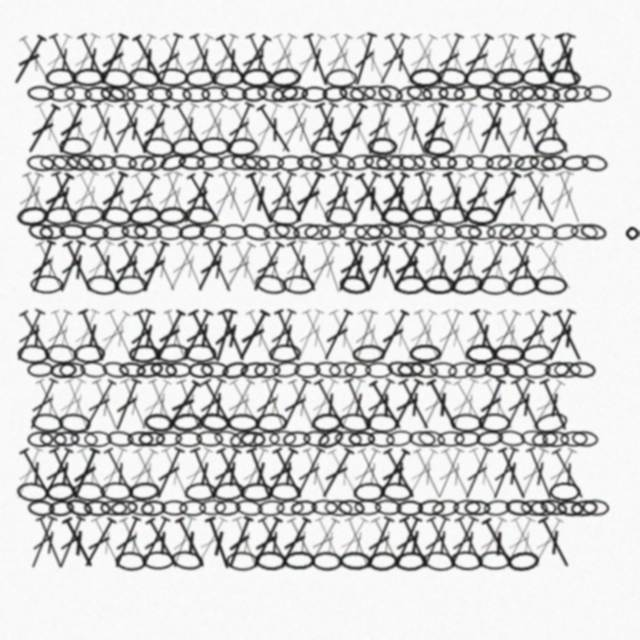chain: (533, 410, 569, 436), (127, 65, 162, 90), (253, 272, 288, 297), (506, 273, 540, 297), (71, 204, 106, 227), (268, 66, 302, 89), (436, 66, 470, 89), (450, 273, 484, 296), (170, 549, 204, 572), (315, 426, 346, 451), (85, 274, 120, 296), (198, 411, 231, 434), (100, 205, 134, 227), (324, 205, 358, 227), (44, 343, 78, 365), (520, 343, 554, 365), (30, 412, 64, 434), (338, 412, 372, 434), (422, 550, 456, 572), (506, 550, 540, 572), (100, 67, 133, 89), (184, 67, 217, 89), (142, 136, 175, 158), (170, 136, 203, 158), (16, 205, 49, 227), (338, 274, 371, 296), (58, 412, 91, 434), (16, 481, 49, 503), (380, 481, 413, 503), (139, 151, 169, 175), (534, 136, 568, 157), (156, 343, 190, 364), (268, 343, 302, 364), (72, 481, 106, 502), (212, 481, 246, 502), (143, 412, 175, 434), (464, 67, 497, 88), (492, 67, 525, 88), (128, 205, 161, 226), (184, 205, 217, 226), (394, 274, 427, 295), (128, 481, 161, 502), (254, 550, 287, 571), (450, 550, 483, 571), (158, 151, 188, 174), (272, 220, 302, 243), (64, 496, 94, 519), (171, 412, 203, 433), (311, 412, 343, 433), (45, 481, 77, 502), (376, 82, 405, 105), (212, 68, 245, 88), (548, 68, 581, 88), (337, 83, 367, 105), (394, 83, 424, 105), (226, 137, 259, 157), (44, 206, 77, 226), (436, 206, 469, 226), (241, 221, 271, 243), (114, 275, 147, 295), (282, 275, 315, 295), (478, 275, 511, 295), (534, 275, 567, 295), (128, 344, 161, 364), (352, 344, 385, 364), (220, 359, 250, 381), (226, 413, 259, 433), (366, 413, 399, 433), (450, 413, 483, 433), (213, 428, 243, 450), (228, 428, 258, 450), (184, 482, 217, 502), (240, 482, 273, 502), (226, 551, 259, 571), (394, 551, 427, 571), (325, 68, 357, 88), (269, 206, 301, 226), (17, 344, 49, 364), (493, 344, 525, 364), (269, 482, 301, 502), (353, 482, 385, 502), (115, 551, 147, 571), (311, 551, 343, 571), (339, 551, 371, 571), (367, 551, 399, 571), (501, 359, 530, 381), (76, 152, 106, 173), (409, 359, 439, 380), (72, 68, 105, 87), (156, 68, 189, 87), (198, 137, 231, 156), (30, 275, 63, 294), (184, 344, 217, 363), (478, 413, 511, 432), (100, 482, 133, 501), (142, 551, 175, 570), (478, 551, 511, 570), (157, 206, 188, 226), (381, 206, 412, 226), (256, 83, 285, 104), (270, 83, 299, 104), (405, 83, 434, 104), (474, 83, 503, 104), (532, 83, 561, 104), (230, 152, 259, 173), (328, 152, 357, 173), (346, 152, 375, 173), (412, 152, 441, 173), (379, 221, 408, 242), (498, 221, 527, 242), (386, 359, 415, 380), (539, 497, 568, 518), (45, 68, 77, 87), (241, 68, 273, 87), (409, 68, 441, 87), (521, 68, 553, 87), (59, 137, 91, 156), (311, 137, 343, 156), (409, 206, 441, 225), (465, 206, 497, 225), (423, 275, 455, 294), (73, 344, 105, 363), (409, 344, 441, 363), (465, 344, 497, 363), (255, 413, 287, 432), (549, 482, 581, 501), (283, 551, 315, 570), (529, 222, 559, 242), (447, 360, 477, 380), (234, 498, 264, 518), (367, 137, 398, 156), (423, 137, 454, 156), (65, 152, 93, 173), (27, 221, 55, 242), (108, 84, 137, 104), (164, 84, 193, 104), (51, 153, 80, 173), (242, 153, 271, 173), (528, 153, 557, 173), (580, 153, 609, 173), (397, 222, 426, 242), (551, 222, 580, 242), (579, 222, 608, 242), (101, 360, 130, 380), (135, 360, 164, 380), (239, 360, 268, 380), (464, 360, 493, 380), (417, 429, 446, 449), (431, 498, 460, 518), (99, 84, 127, 104), (513, 153, 541, 173), (363, 84, 392, 103), (508, 84, 537, 103), (563, 84, 592, 103), (362, 153, 391, 172), (388, 153, 417, 172), (133, 222, 162, 241), (177, 222, 206, 241), (292, 222, 321, 241), (79, 360, 108, 379), (149, 360, 178, 379), (272, 360, 301, 379), (385, 429, 414, 448), (475, 429, 504, 448), (497, 429, 526, 448), (126, 498, 155, 517), (504, 498, 533, 517), (220, 84, 248, 103), (453, 84, 481, 103), (110, 153, 138, 172), (485, 153, 513, 172), (497, 153, 525, 172), (263, 222, 291, 241), (486, 222, 514, 241), (314, 360, 342, 379), (568, 360, 596, 379), (520, 429, 548, 448), (337, 498, 365, 517), (26, 154, 55, 172), (310, 154, 339, 172), (429, 361, 458, 379), (282, 430, 311, 448), (324, 499, 353, 517), (544, 360, 571, 379), (64, 85, 92, 103), (552, 85, 580, 103), (561, 154, 589, 172), (81, 223, 109, 241), (102, 223, 130, 241), (319, 223, 347, 241), (434, 223, 462, 241), (454, 223, 482, 241), (570, 223, 598, 241), (49, 361, 77, 379), (118, 361, 146, 379), (523, 361, 551, 379), (39, 430, 67, 448), (70, 430, 98, 448), (106, 430, 134, 448), (155, 430, 183, 448), (252, 430, 280, 448), (334, 430, 362, 448), (367, 430, 395, 448), (408, 430, 436, 448), (531, 430, 559, 448), (571, 430, 599, 448), (27, 499, 55, 517), (83, 499, 111, 517), (110, 499, 138, 517), (257, 499, 285, 517), (290, 499, 318, 517), (483, 499, 511, 517), (520, 499, 548, 517), (556, 499, 584, 517), (570, 499, 598, 517), (200, 361, 229, 378), (296, 154, 323, 172), (540, 154, 567, 172), (48, 499, 75, 517), (140, 499, 167, 517), (349, 85, 377, 102), (519, 85, 547, 102), (40, 154, 68, 171), (196, 154, 224, 171), (218, 154, 246, 171), (376, 154, 404, 171), (466, 154, 494, 171), (276, 499, 304, 516), (374, 499, 402, 516), (417, 499, 445, 516), (453, 499, 481, 516), (27, 85, 54, 102), (48, 85, 75, 102), (241, 85, 268, 102), (281, 85, 308, 102), (422, 85, 449, 102), (438, 85, 465, 102), (584, 85, 611, 102), (90, 154, 117, 171), (178, 154, 205, 171), (399, 154, 426, 171), (430, 154, 457, 171), (447, 154, 474, 171), (59, 223, 86, 240), (121, 223, 148, 240), (366, 223, 393, 240), (418, 223, 445, 240), (27, 361, 54, 378), (329, 361, 356, 378), (397, 361, 424, 378), (196, 430, 223, 447), (269, 430, 296, 447), (303, 430, 330, 447), (454, 430, 481, 447), (199, 499, 226, 516), (214, 499, 241, 516), (311, 499, 338, 516), (354, 499, 381, 516), (582, 499, 609, 516), (126, 86, 154, 102), (182, 86, 210, 102), (128, 155, 156, 171), (220, 224, 248, 240), (339, 224, 367, 240), (354, 224, 382, 240), (468, 224, 496, 240), (365, 362, 393, 378), (84, 431, 112, 447), (437, 431, 465, 447), (560, 431, 588, 447), (322, 85, 348, 102), (84, 86, 111, 102), (201, 86, 228, 102), (301, 86, 328, 102), (493, 86, 520, 102), (257, 155, 284, 171), (277, 155, 304, 171), (39, 224, 66, 240), (156, 224, 183, 240), (199, 224, 226, 240), (304, 224, 331, 240), (512, 224, 539, 240), (59, 362, 86, 378), (165, 362, 192, 378), (254, 362, 281, 378), (294, 362, 321, 378), (344, 362, 371, 378), (554, 362, 581, 378), (27, 431, 54, 447), (53, 431, 80, 447), (127, 431, 154, 447), (138, 431, 165, 447), (175, 431, 202, 447), (348, 431, 375, 447), (542, 431, 569, 447), (100, 500, 127, 516), (161, 500, 188, 516), (179, 500, 206, 516), (396, 500, 423, 516), (464, 500, 491, 516), (530, 500, 557, 516), (147, 86, 173, 102), (188, 362, 214, 378), (484, 362, 510, 378), (240, 431, 266, 447)
double: (160, 377, 205, 433), (15, 307, 59, 364), (329, 514, 373, 571), (532, 239, 577, 294), (231, 32, 275, 88), (253, 101, 297, 157), (119, 170, 163, 226), (91, 308, 135, 364), (525, 377, 569, 433), (175, 31, 218, 88), (455, 31, 498, 88), (169, 100, 212, 157), (225, 100, 268, 157), (533, 100, 576, 157), (127, 169, 170, 226), (197, 376, 240, 433), (225, 376, 268, 433), (15, 445, 58, 502), (315, 445, 358, 502), (379, 445, 422, 502), (189, 514, 232, 571), (301, 514, 344, 571), (7, 32, 50, 88), (15, 32, 58, 88), (21, 101, 64, 157), (35, 170, 78, 226), (183, 170, 226, 226), (365, 377, 408, 433), (449, 377, 492, 433), (288, 31, 330, 88), (512, 31, 554, 88), (330, 100, 372, 157), (86, 238, 128, 295), (302, 238, 344, 295), (386, 238, 428, 295), (232, 307, 274, 364), (310, 376, 352, 433), (394, 376, 436, 433), (422, 376, 464, 433), (478, 376, 520, 433), (260, 445, 302, 502), (58, 514, 100, 571), (254, 514, 296, 571), (282, 514, 324, 571), (366, 514, 408, 571), (534, 514, 576, 571), (128, 32, 170, 88), (156, 32, 198, 88), (212, 32, 254, 88), (142, 101, 184, 157), (352, 170, 394, 226), (428, 170, 470, 226), (218, 239, 260, 295), (246, 239, 288, 295), (394, 239, 436, 295), (512, 308, 554, 364), (78, 377, 120, 433), (120, 446, 162, 502), (324, 446, 366, 502), (372, 446, 414, 502), (400, 446, 442, 502), (548, 446, 590, 502), (78, 515, 120, 571), (142, 515, 184, 571), (478, 515, 520, 571), (30, 100, 71, 157), (106, 100, 147, 157), (190, 100, 231, 157), (274, 100, 315, 157), (478, 100, 519, 157), (72, 169, 113, 226), (268, 169, 309, 226), (288, 169, 329, 226), (296, 169, 337, 226), (344, 169, 385, 226), (464, 169, 505, 226), (512, 169, 553, 226), (520, 169, 561, 226), (106, 238, 147, 295), (114, 238, 155, 295), (506, 238, 547, 295), (176, 307, 217, 364), (184, 307, 225, 364), (400, 307, 441, 364), (302, 376, 343, 433), (358, 376, 399, 433), (386, 376, 427, 433), (498, 376, 539, 433), (100, 445, 141, 502), (176, 445, 217, 502), (204, 445, 245, 502), (212, 445, 253, 502), (268, 445, 309, 502), (540, 445, 581, 502), (246, 514, 287, 571), (274, 514, 315, 571), (470, 514, 511, 571), (498, 514, 539, 571), (400, 32, 441, 88), (134, 377, 175, 433), (526, 515, 567, 571), (73, 31, 113, 88), (121, 31, 161, 88), (261, 31, 301, 88), (317, 31, 357, 88), (353, 31, 393, 88), (373, 31, 413, 88), (381, 31, 421, 88), (409, 31, 449, 88), (521, 31, 561, 88), (59, 100, 99, 157), (163, 100, 203, 157), (339, 100, 379, 157), (423, 100, 463, 157), (499, 100, 539, 157), (527, 100, 567, 157), (101, 169, 141, 226), (177, 169, 217, 226), (373, 169, 413, 226), (381, 169, 421, 226), (457, 169, 497, 226), (485, 169, 525, 226), (59, 238, 99, 295), (191, 238, 231, 295), (283, 238, 323, 295), (331, 238, 371, 295), (471, 238, 511, 295), (527, 238, 567, 295), (9, 307, 49, 364), (101, 307, 141, 364), (149, 307, 189, 364), (241, 307, 281, 364), (317, 307, 357, 364), (325, 307, 365, 364), (373, 307, 413, 364), (381, 307, 421, 364), (485, 307, 525, 364), (31, 376, 71, 433), (219, 376, 259, 433), (275, 376, 315, 433), (415, 376, 455, 433), (507, 376, 547, 433), (37, 445, 77, 502), (45, 445, 85, 502), (73, 445, 113, 502), (129, 445, 169, 502), (289, 445, 329, 502), (437, 445, 477, 502), (513, 445, 553, 502), (87, 514, 127, 571), (171, 514, 211, 571), (395, 514, 435, 571), (423, 514, 463, 571), (507, 514, 547, 571), (185, 31, 224, 89), (311, 100, 350, 158), (451, 100, 490, 158), (135, 238, 174, 296), (129, 307, 168, 365), (535, 376, 574, 434), (359, 514, 398, 572), (37, 31, 76, 88), (45, 31, 84, 88), (65, 31, 104, 88), (269, 31, 308, 88), (437, 31, 476, 88), (87, 100, 126, 157), (135, 100, 174, 157), (303, 100, 342, 157), (31, 238, 70, 295), (79, 238, 118, 295), (143, 238, 182, 295), (163, 238, 202, 295), (199, 238, 238, 295), (227, 238, 266, 295), (367, 238, 406, 295), (423, 238, 462, 295), (437, 307, 476, 364), (457, 307, 496, 364), (493, 307, 532, 364), (521, 307, 560, 364), (549, 307, 588, 364), (23, 376, 62, 433), (51, 376, 90, 433), (149, 445, 188, 502), (157, 445, 196, 502), (345, 445, 384, 502), (353, 445, 392, 502), (409, 445, 448, 502), (465, 445, 504, 502), (115, 514, 154, 571), (135, 514, 174, 571), (311, 514, 350, 571), (387, 514, 426, 571), (443, 514, 482, 571), (451, 514, 490, 571), (430, 31, 468, 89), (466, 31, 504, 89), (80, 100, 118, 158), (248, 100, 286, 158), (284, 100, 322, 158), (508, 100, 546, 158), (10, 169, 48, 227), (242, 169, 280, 227), (318, 169, 356, 227), (500, 238, 538, 296), (66, 445, 104, 503), (94, 31, 132, 88), (242, 31, 280, 88), (326, 31, 364, 88), (52, 100, 90, 157), (116, 100, 154, 157), (200, 100, 238, 157), (220, 100, 258, 157), (18, 169, 56, 226), (94, 169, 132, 226), (206, 169, 244, 226), (214, 169, 252, 226), (262, 169, 300, 226), (326, 169, 364, 226), (494, 169, 532, 226), (172, 238, 210, 295), (360, 238, 398, 295), (38, 307, 76, 364), (66, 307, 104, 364), (262, 307, 300, 364), (290, 307, 328, 364), (298, 307, 336, 364), (354, 307, 392, 364), (466, 307, 504, 364), (542, 307, 580, 364), (192, 376, 230, 433), (248, 376, 286, 433), (284, 376, 322, 433), (444, 376, 482, 433), (234, 445, 272, 502), (430, 445, 468, 502), (458, 445, 496, 502), (494, 445, 532, 502), (416, 514, 454, 571), (486, 31, 523, 89), (256, 238, 293, 296), (46, 307, 83, 365), (60, 376, 97, 434), (108, 376, 145, 434), (172, 376, 209, 434), (186, 445, 223, 503), (242, 445, 279, 503), (228, 514, 265, 572), (340, 514, 377, 572), (102, 31, 139, 88), (206, 31, 243, 88), (494, 31, 531, 88), (542, 31, 579, 88), (444, 100, 481, 157), (66, 169, 103, 226), (150, 169, 187, 226), (234, 169, 271, 226), (402, 169, 439, 226), (444, 238, 481, 295), (452, 238, 489, 295), (74, 307, 111, 364), (214, 307, 251, 364), (270, 307, 307, 364), (410, 307, 447, 364), (430, 307, 467, 364), (88, 376, 125, 433), (116, 376, 153, 433), (144, 376, 181, 433), (340, 376, 377, 433), (472, 376, 509, 433), (10, 445, 47, 502), (94, 445, 131, 502), (298, 445, 335, 502), (486, 445, 523, 502), (522, 445, 559, 502), (24, 514, 61, 571), (32, 514, 69, 571), (52, 514, 89, 571), (108, 514, 145, 571), (151, 31, 187, 89), (299, 31, 335, 89), (47, 169, 83, 227), (159, 169, 195, 227), (123, 307, 159, 365), (201, 514, 237, 572), (397, 100, 433, 157), (473, 100, 509, 157), (439, 169, 475, 226), (551, 169, 587, 226), (53, 238, 89, 295), (341, 238, 377, 295), (333, 376, 369, 433), (221, 514, 257, 571), (361, 100, 396, 158), (417, 100, 452, 158), (313, 238, 348, 296), (347, 307, 382, 365), (551, 31, 586, 88), (369, 100, 404, 157), (411, 169, 446, 226), (543, 169, 578, 226), (25, 238, 60, 295), (417, 238, 452, 295), (481, 238, 516, 295), (159, 307, 194, 364), (257, 376, 292, 433), (165, 514, 200, 571), (208, 307, 242, 365), (390, 100, 424, 157), (348, 31, 381, 88), (279, 238, 311, 295)
noise: (624, 225, 640, 242)
